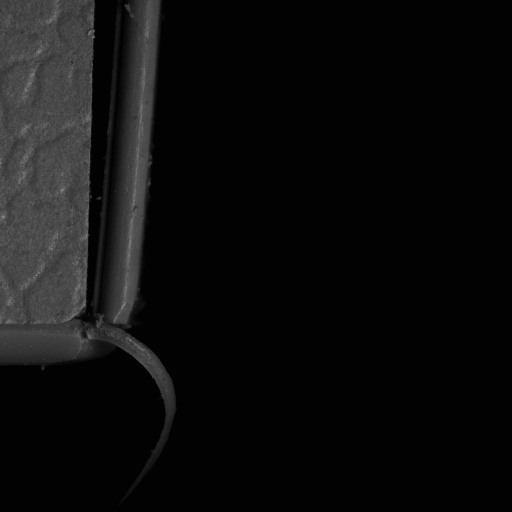changdai: (92, 326, 178, 486)
kaijiao: (83, 2, 159, 337)
